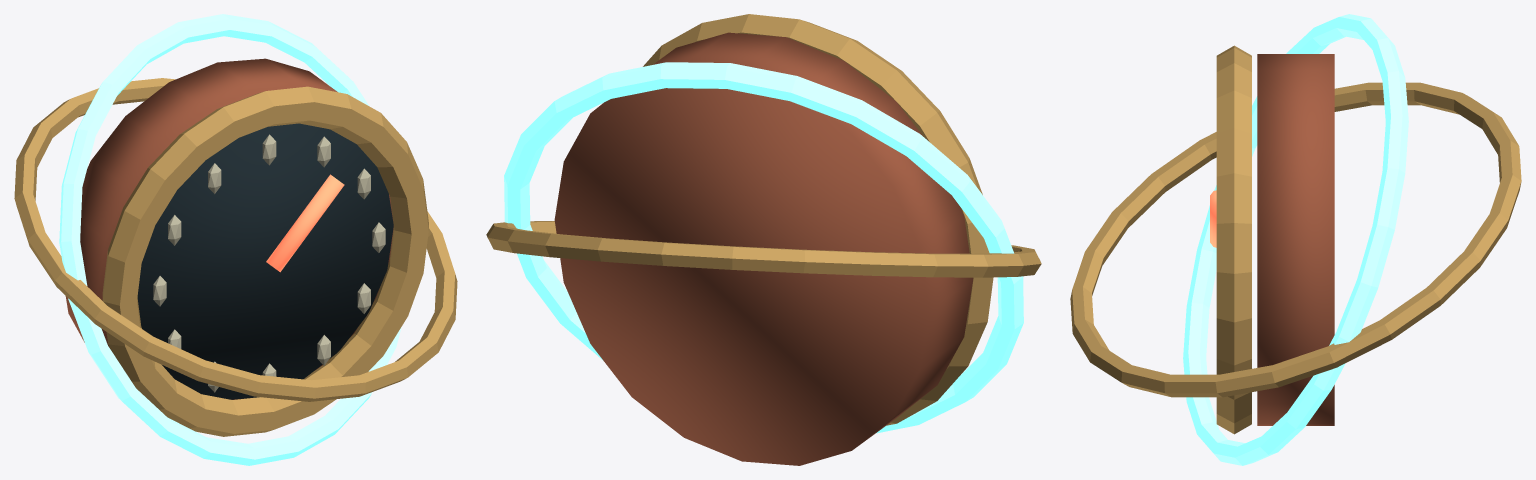
File: relic-torpedoGyro.glb
The picture shows the model from 3 angles, left to right: view 1: azimuth 30°, elevation 25°; view 2: azimuth 150°, elevation 25°; view 3: azimuth 270°, elevation 25°; orthographic projection. The views are drawn at different scales.
Visible parts, largest first — view 1: relic-torpedoGyro / Brass | machined champagne, relic-torpedoGyro / Rubber | dark insets, relic-torpedoGyro / Glass | luminous mint, relic-torpedoGyro / Copper | patinated oxblood, relic-torpedoGyro / Ceramic | warm ivory, relic-torpedoGyro / Lamp | coral red; view 2: relic-torpedoGyro / Copper | patinated oxblood, relic-torpedoGyro / Brass | machined champagne, relic-torpedoGyro / Glass | luminous mint; view 3: relic-torpedoGyro / Brass | machined champagne, relic-torpedoGyro / Copper | patinated oxblood, relic-torpedoGyro / Glass | luminous mint.
Boxes of the visible parts, bbox=[...] form: relic-torpedoGyro / Brass | machined champagne: bbox=[14, 78, 457, 436]; relic-torpedoGyro / Rubber | dark insets: bbox=[137, 123, 393, 399]; relic-torpedoGyro / Glass | luminous mint: bbox=[59, 14, 401, 465]; relic-torpedoGyro / Copper | patinated oxblood: bbox=[65, 58, 393, 399]; relic-torpedoGyro / Ceramic | warm ivory: bbox=[153, 134, 385, 392]; relic-torpedoGyro / Lamp | coral red: bbox=[266, 174, 344, 272]; relic-torpedoGyro / Copper | patinated oxblood: bbox=[554, 32, 973, 465]; relic-torpedoGyro / Brass | machined champagne: bbox=[486, 14, 1041, 425]; relic-torpedoGyro / Glass | luminous mint: bbox=[504, 62, 1023, 433]; relic-torpedoGyro / Brass | machined champagne: bbox=[1070, 45, 1521, 434]; relic-torpedoGyro / Copper | patinated oxblood: bbox=[1257, 54, 1334, 425]; relic-torpedoGyro / Glass | luminous mint: bbox=[1183, 14, 1408, 465].
Size of the model in its own units: 1.86 by 1.68 by 1.76.
